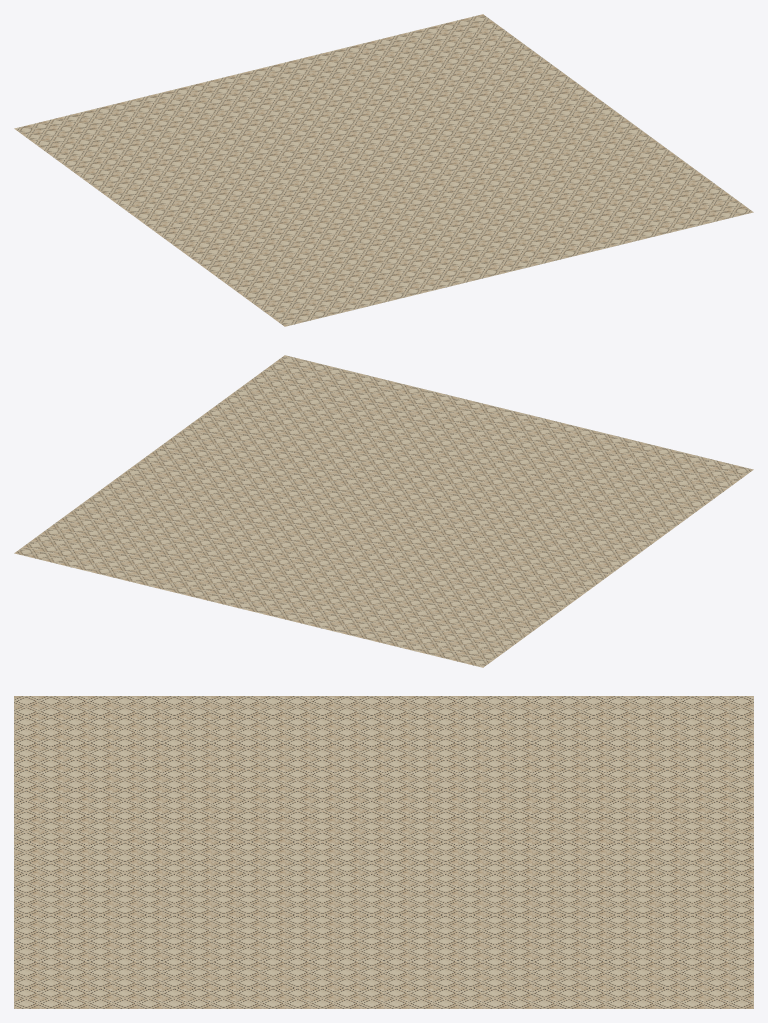
Rendered from tile_brick_square.dae.
3 views of the same model, one above another, from view 1: azimuth 30°, elevation 25°; view 2: azimuth 150°, elevation 25°; view 3: azimuth 270°, elevation 25° (orthographic). The views are drawn at different scales.
Parts seen in each view (by area): view 1: Plane; view 2: Plane; view 3: Plane.
Boxes of the visible parts, box(x1,y1,x2,y2) form: Plane: box(14, 14, 753, 326); Plane: box(14, 355, 753, 667); Plane: box(14, 696, 753, 1008).
Size of the model in its own units: 60 by 60 by 0.
1 material, 1 textured.
